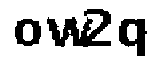2: (88, 4, 114, 50)
o: (8, 17, 42, 49)
q: (117, 15, 150, 57)
w: (43, 16, 90, 49)
